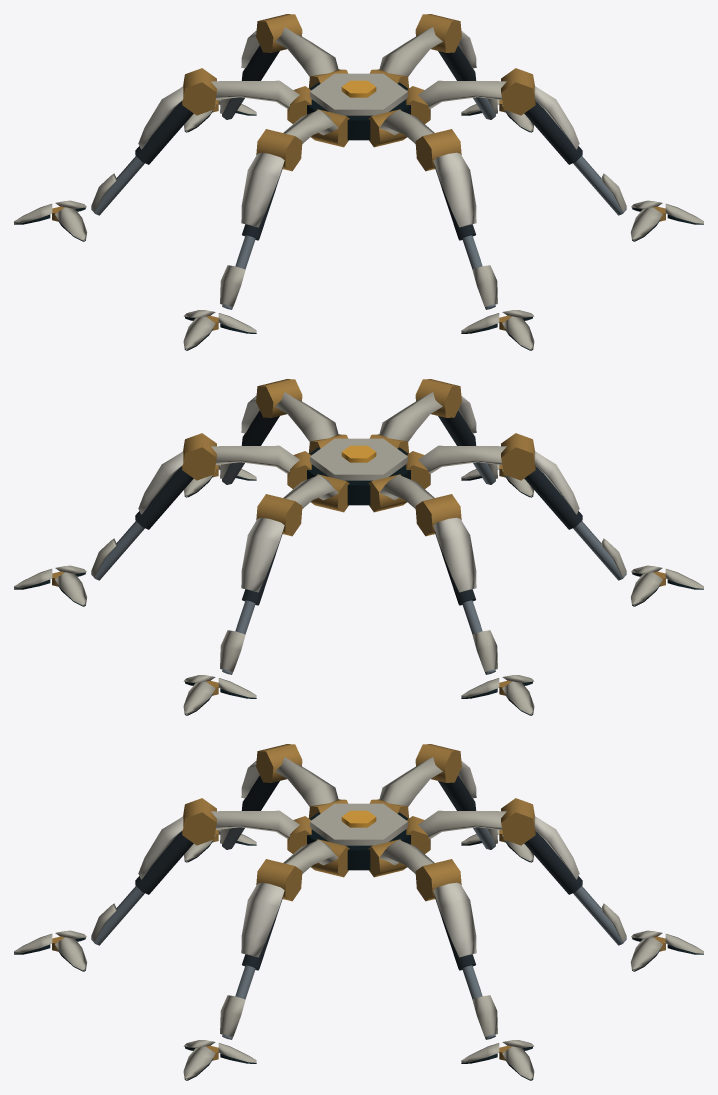
The model's file is nih_dairia_mech_d0_lod2.glb.
3 views of the same model, one above another, from view 1: azimuth 30°, elevation 25°; view 2: azimuth 150°, elevation 25°; view 3: azimuth 270°, elevation 25° (orthographic).
Parts seen in each view (by area): view 1: DISTANCE_GEOMETRY; view 2: DISTANCE_GEOMETRY; view 3: DISTANCE_GEOMETRY.
Part boxes in pixels (x1,y1,x2,y2): DISTANCE_GEOMETRY: [14, 14, 703, 350]; DISTANCE_GEOMETRY: [14, 379, 703, 715]; DISTANCE_GEOMETRY: [14, 744, 703, 1080].
Bounding box in the file's own units: 6.6 × 1.81 × 7.59.
